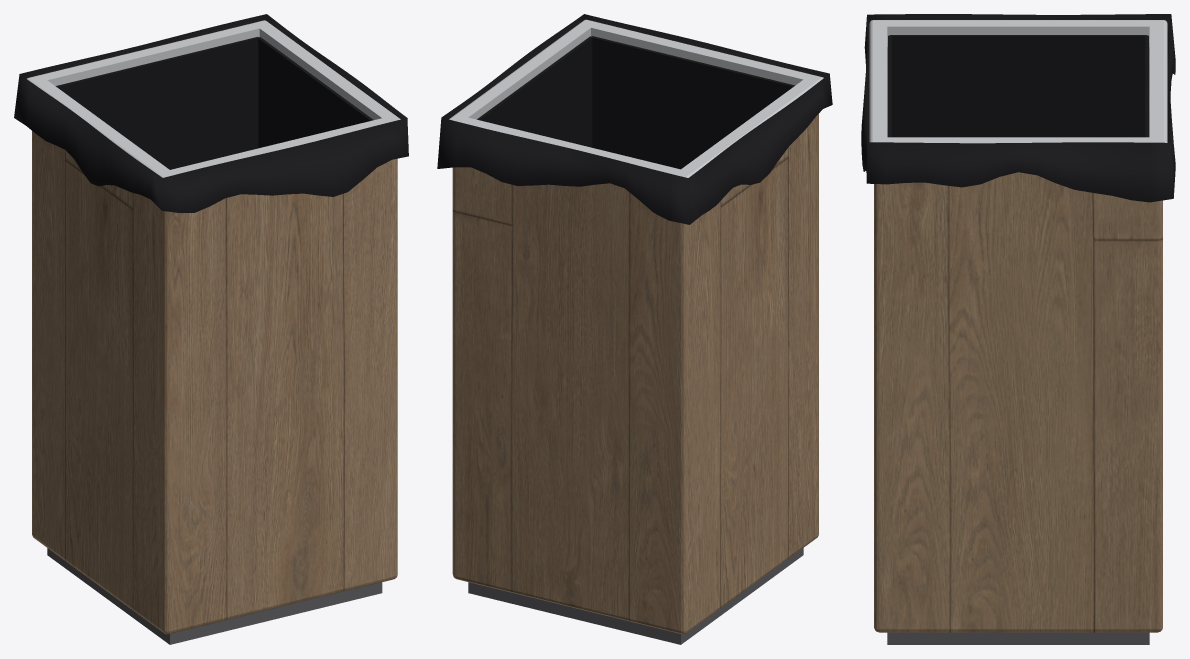
The model's file is hotel-waste-bin.glb.
3 renders of one model, left to right at view 1: azimuth 30°, elevation 25°; view 2: azimuth 150°, elevation 25°; view 3: azimuth 270°, elevation 25°, orthographic. The views are drawn at different scales.
Parts seen in each view (by area): view 1: oak, bag_black, brushed_metal, charcoal; view 2: oak, bag_black, brushed_metal, charcoal; view 3: oak, bag_black, brushed_metal, charcoal.
Part boxes in pixels (x1,y1,x2,y2): oak: (32, 131, 397, 634); bag_black: (14, 14, 408, 212); brushed_metal: (27, 20, 400, 177); charcoal: (47, 548, 382, 644); oak: (452, 114, 818, 634); bag_black: (437, 14, 832, 224); brushed_metal: (449, 19, 823, 177); charcoal: (468, 548, 803, 644); oak: (874, 43, 1162, 632); bag_black: (861, 14, 1175, 202); brushed_metal: (869, 20, 1167, 143); charcoal: (887, 632, 1149, 644).
Bounding box in the file's own units: 0.348 × 0.624 × 0.348.
4 materials, 1 textured.
